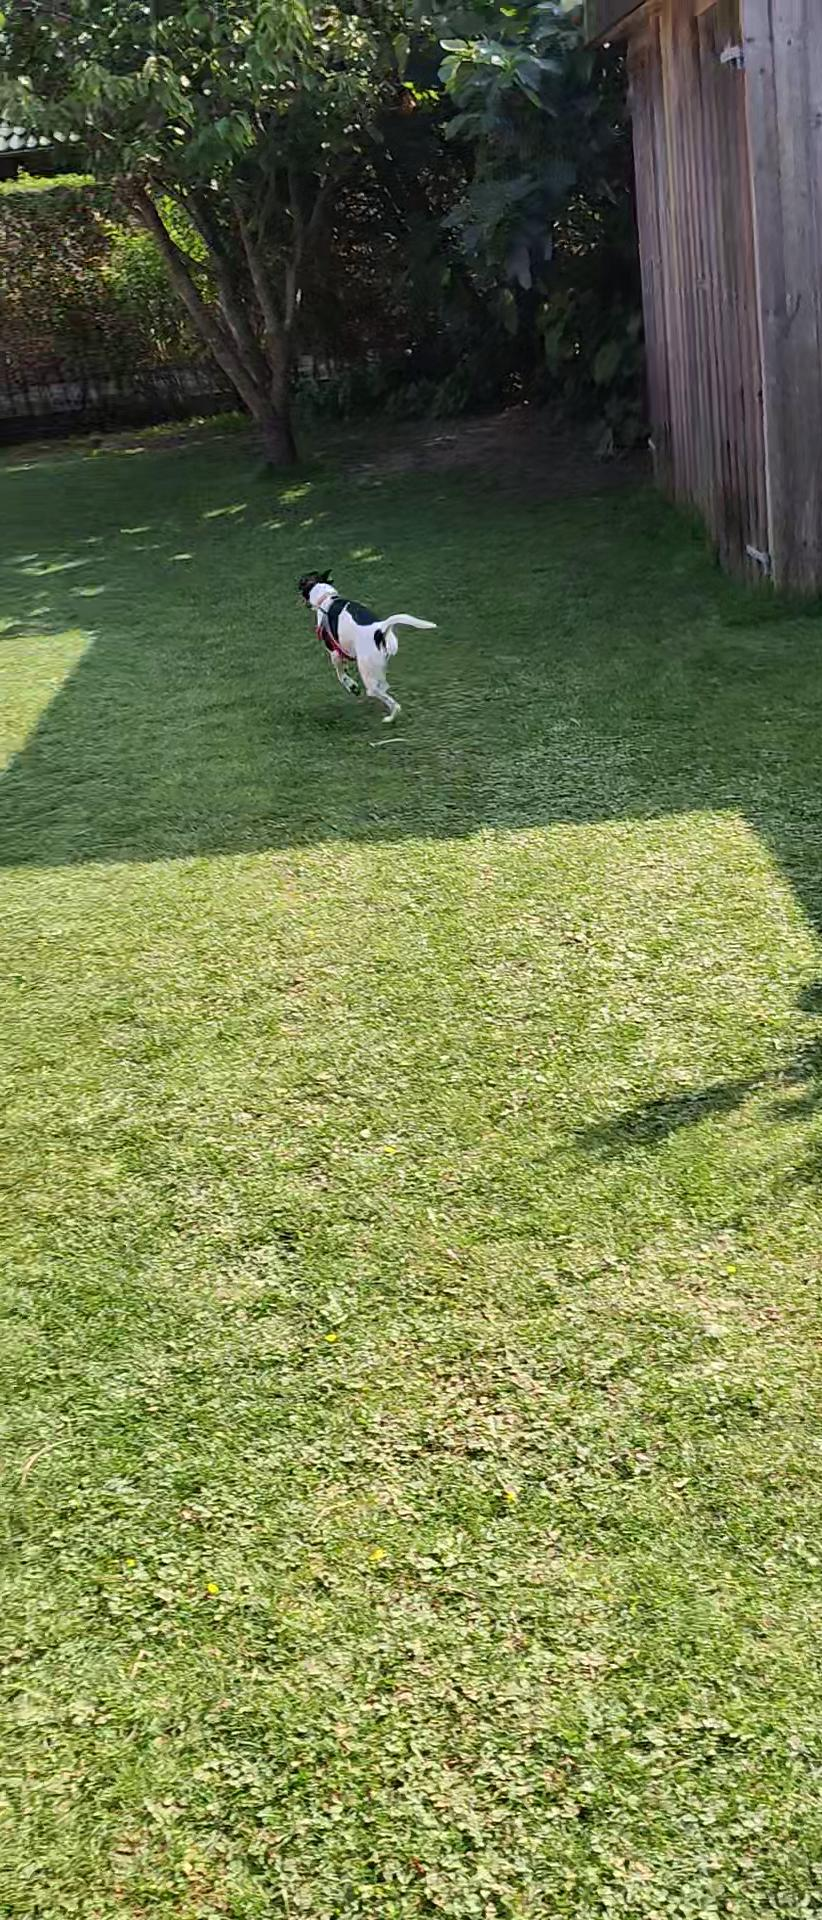Dog: (287, 558, 450, 740)
